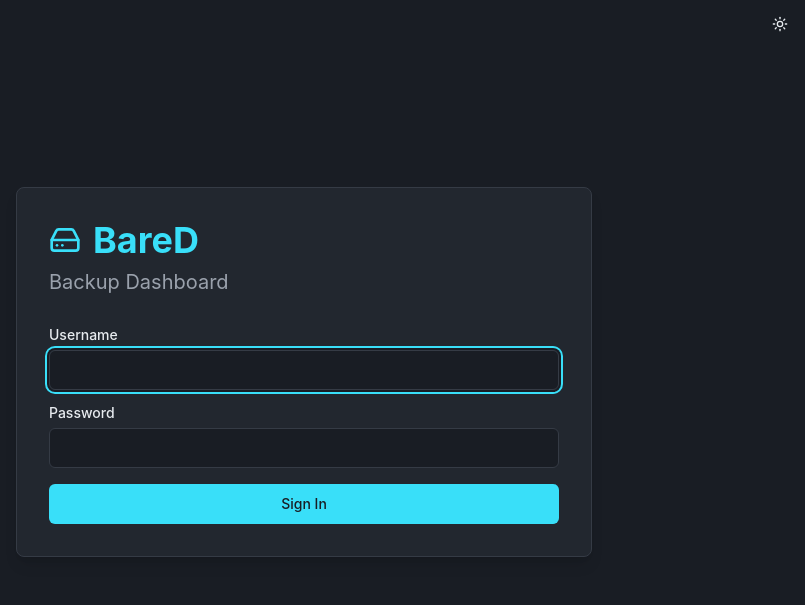
Login Component › handles network errors
In the field labelled "Username": {"x": 304, "y": 370} [49, 350, 559, 390], type "testuser"
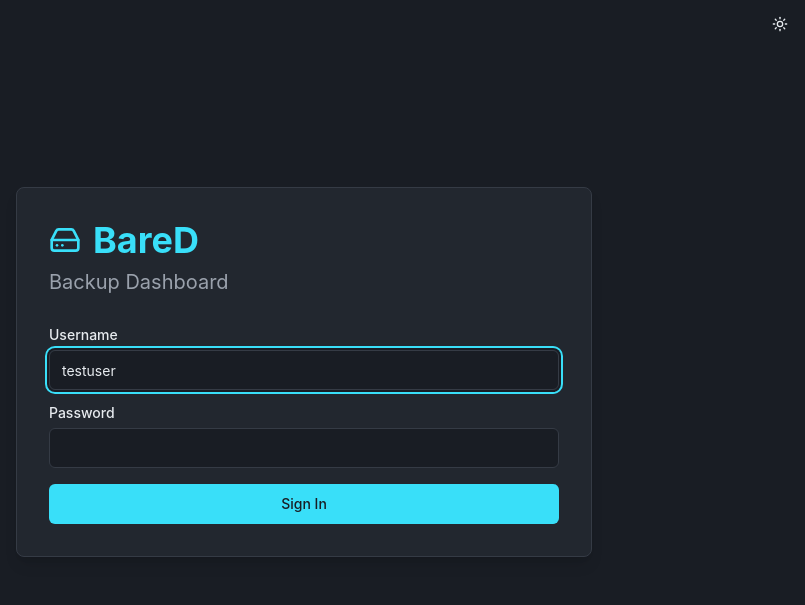
In the password field labelled "Password": {"x": 304, "y": 448} [49, 428, 559, 468], type "testpass"
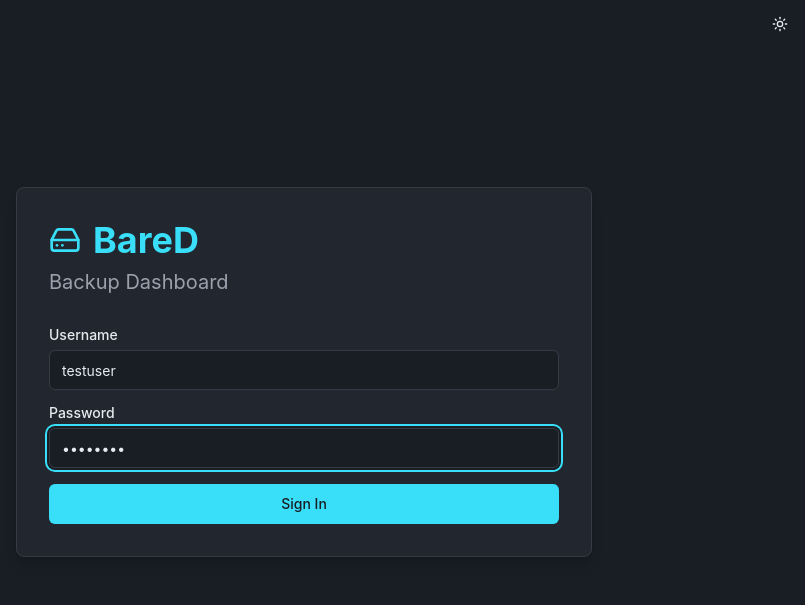
Click the button "Sign In": {"x": 304, "y": 504} [49, 484, 559, 524]
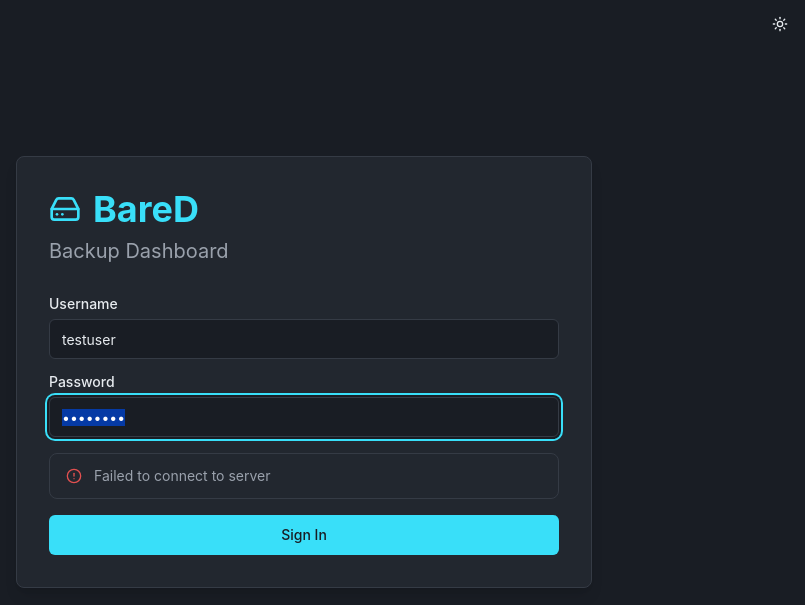
Expected: the text "Failed to connect to server" is shown, [94, 467, 270, 484]
